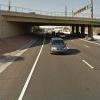Bridge: (5, 1, 99, 34)
